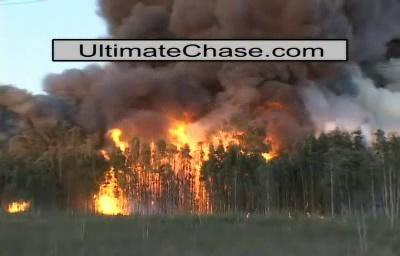fire: (100, 114, 283, 166), (93, 180, 132, 217), (3, 198, 38, 213)
smoke: (57, 64, 400, 109), (87, 2, 400, 37)
